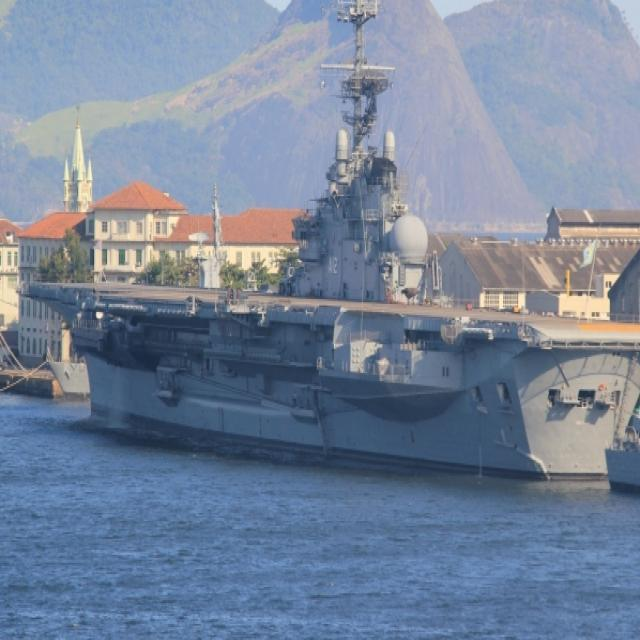Portanaves: (13, 1, 640, 506)
